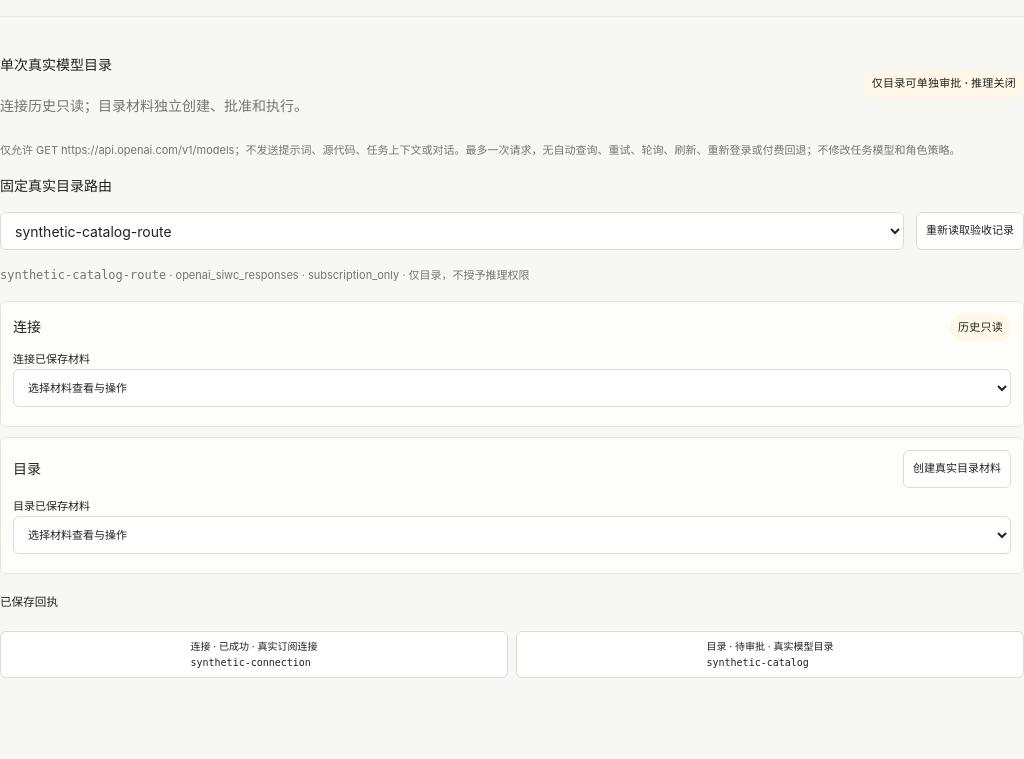
Test case: keeps pending catalog history read-only after switching to connection mode without blocking fresh connection approval
Expected: the heading "单次真实模型目录" is shown, [0,56,112,73]
Click the button "重新读取验收记录": coordinates (970, 231) [916,212,1023,250]
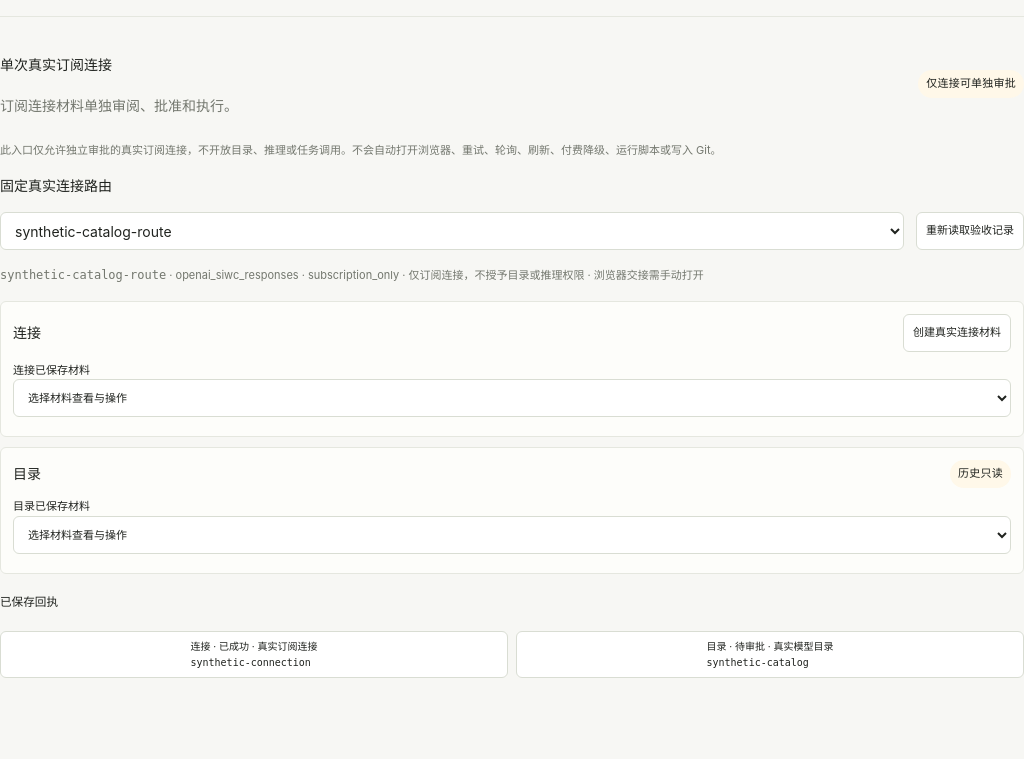
Expected: the button "创建真实连接材料" is enabled, [903,314,1011,352]
Select "synthetic-catalog · 待审批" in the dropdown labelled "目录已保存材料": coordinates (512, 535) [13,516,1011,554]
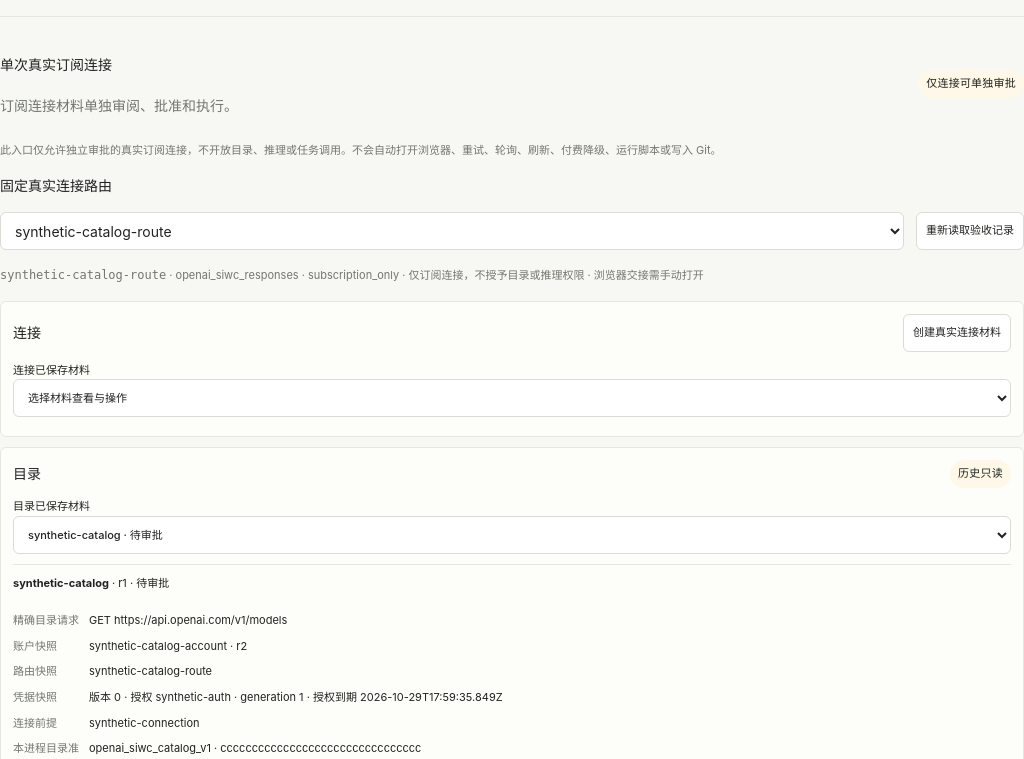
Click the button "创建真实连接材料": coordinates (957, 333) [903,314,1011,352]
(page scrolled)
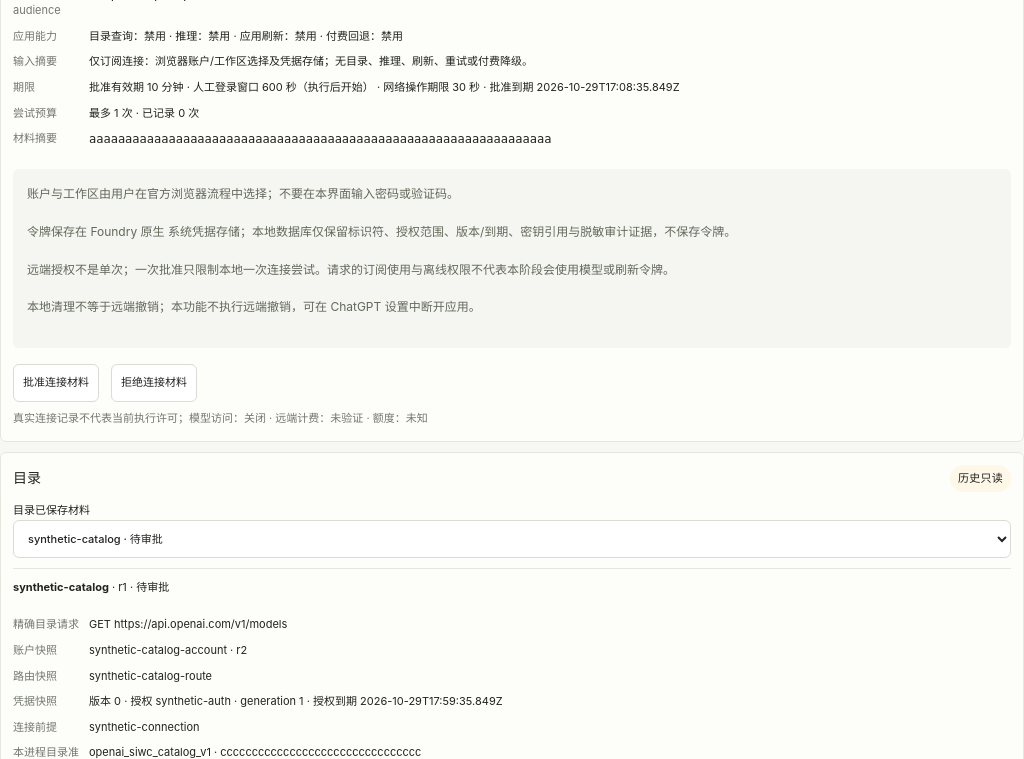
Expected: the button "批准连接材料" is enabled, [13,364,99,402]
